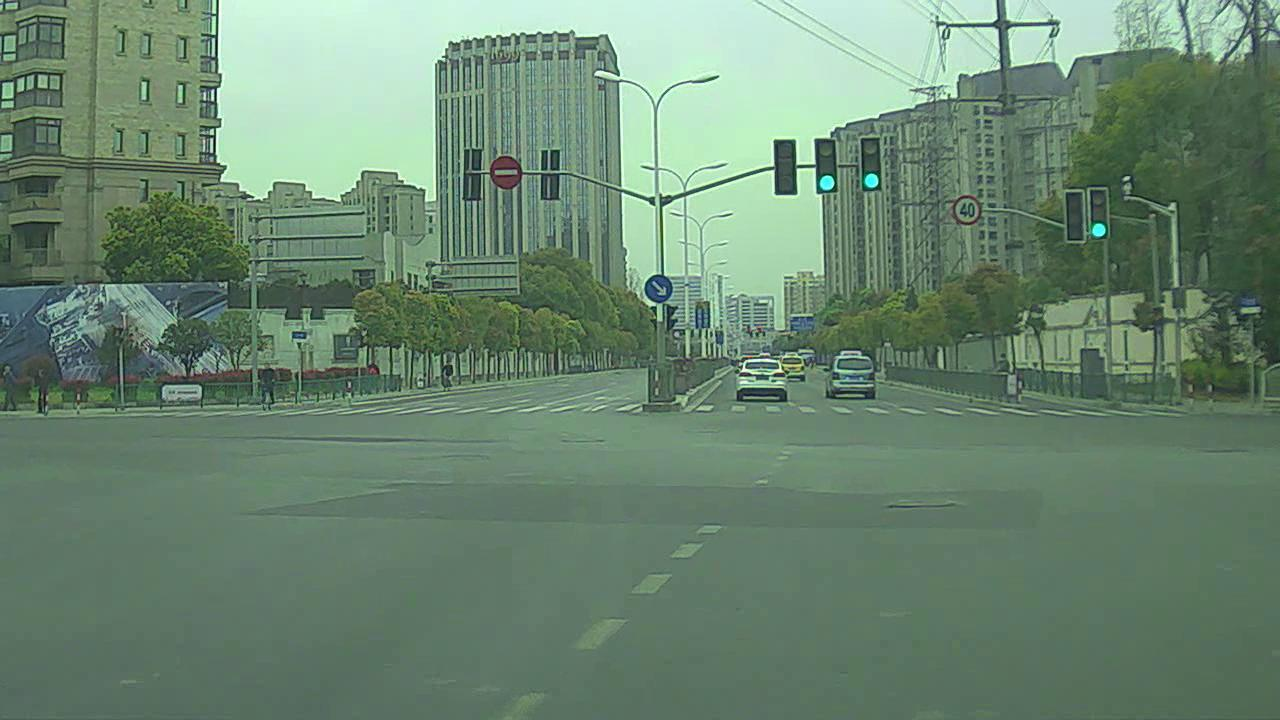traffic_light: (773, 133, 800, 196), (1063, 190, 1088, 244), (1089, 185, 1112, 239), (816, 139, 837, 192), (860, 136, 881, 188)
